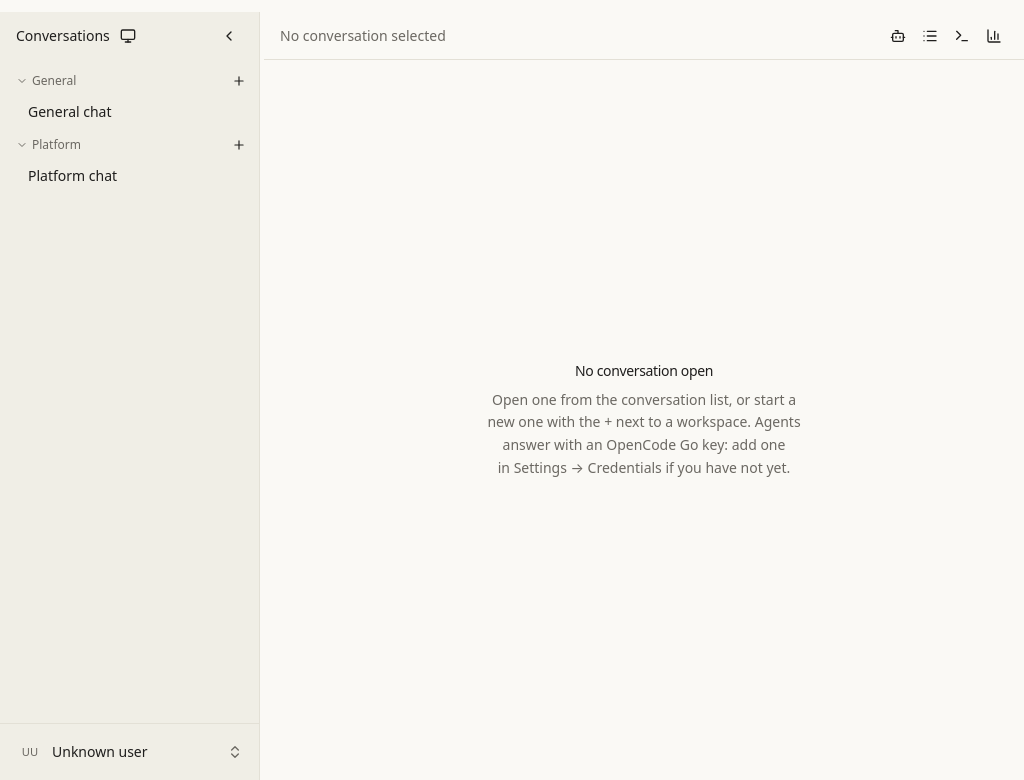
Test: App › names the agent of the open conversation in the info panel
Click the button "General chat": (130, 112) [8, 96, 251, 128]
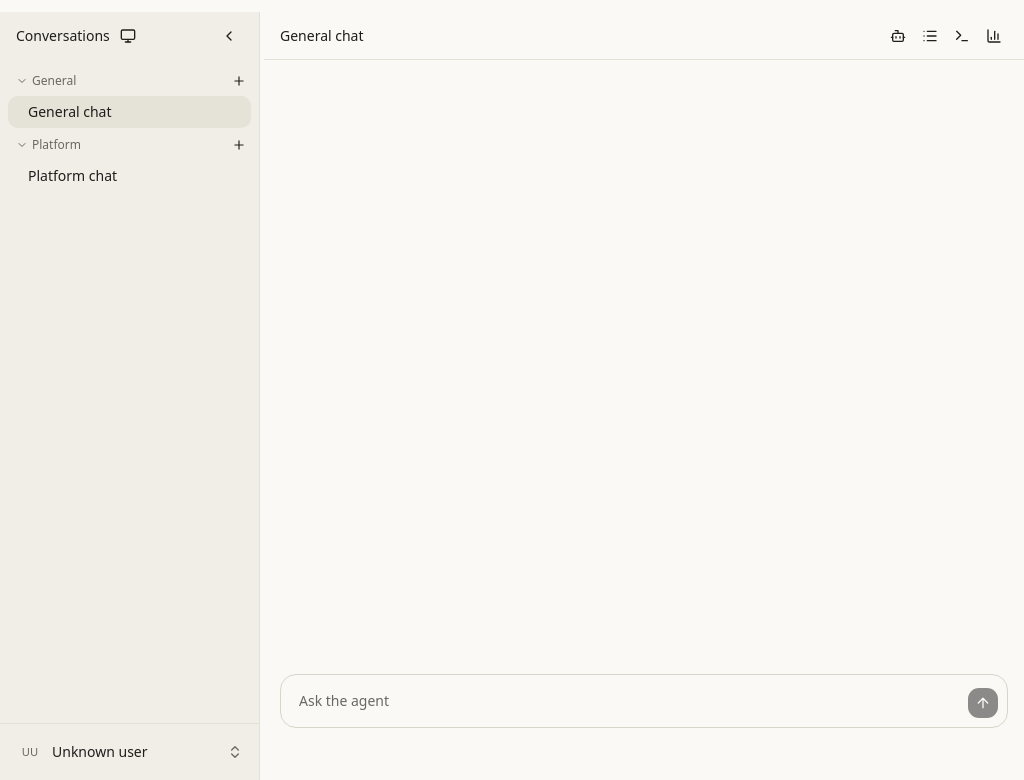
Click the button named "Conversation info": (930, 36) [916, 22, 944, 50]
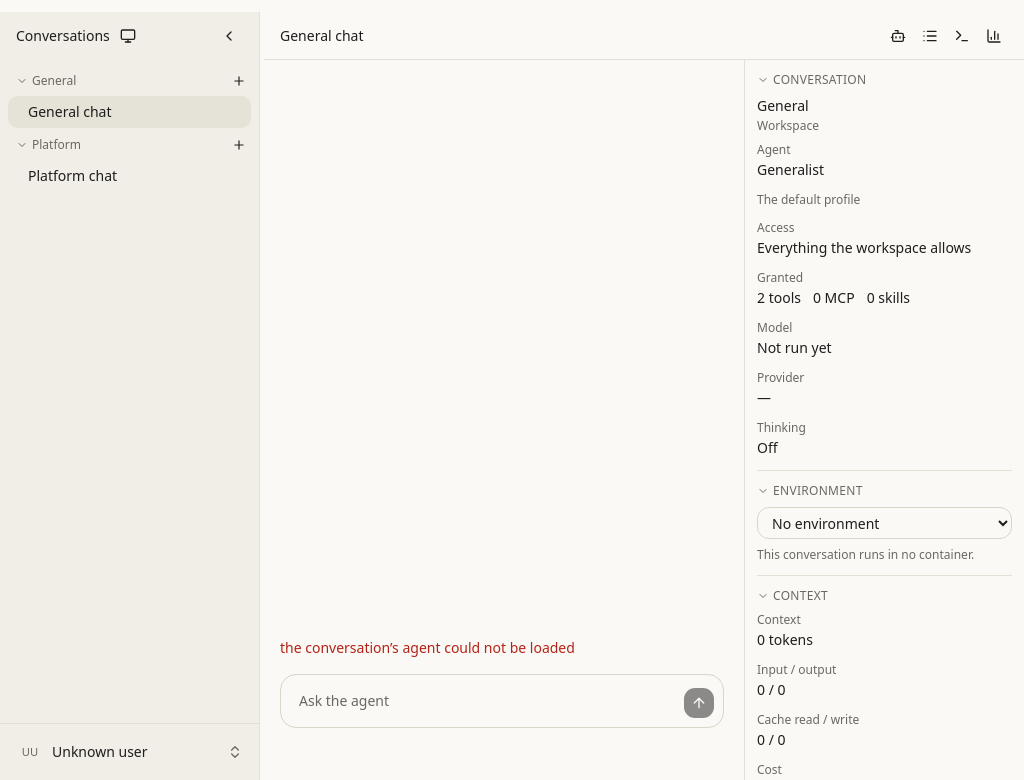
Expected: the text "Generalist" is shown, [757, 160, 824, 179]
Expected: the text "2 tools" is shown, [757, 288, 801, 308]
